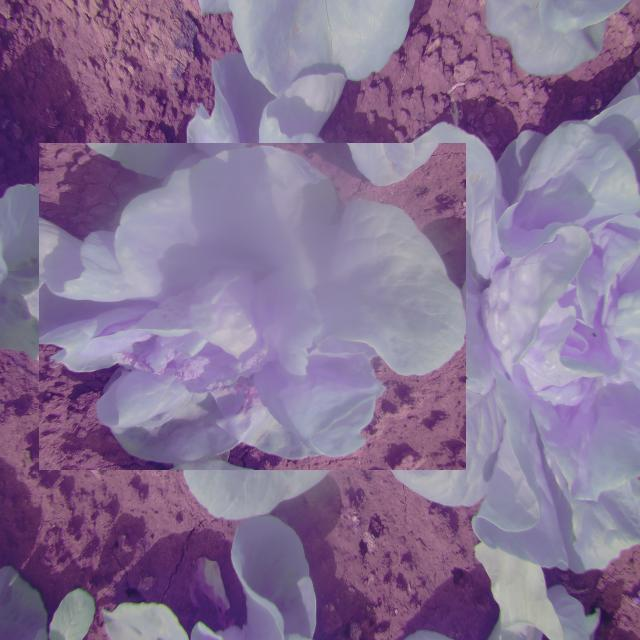vege: (64, 117, 441, 495)
